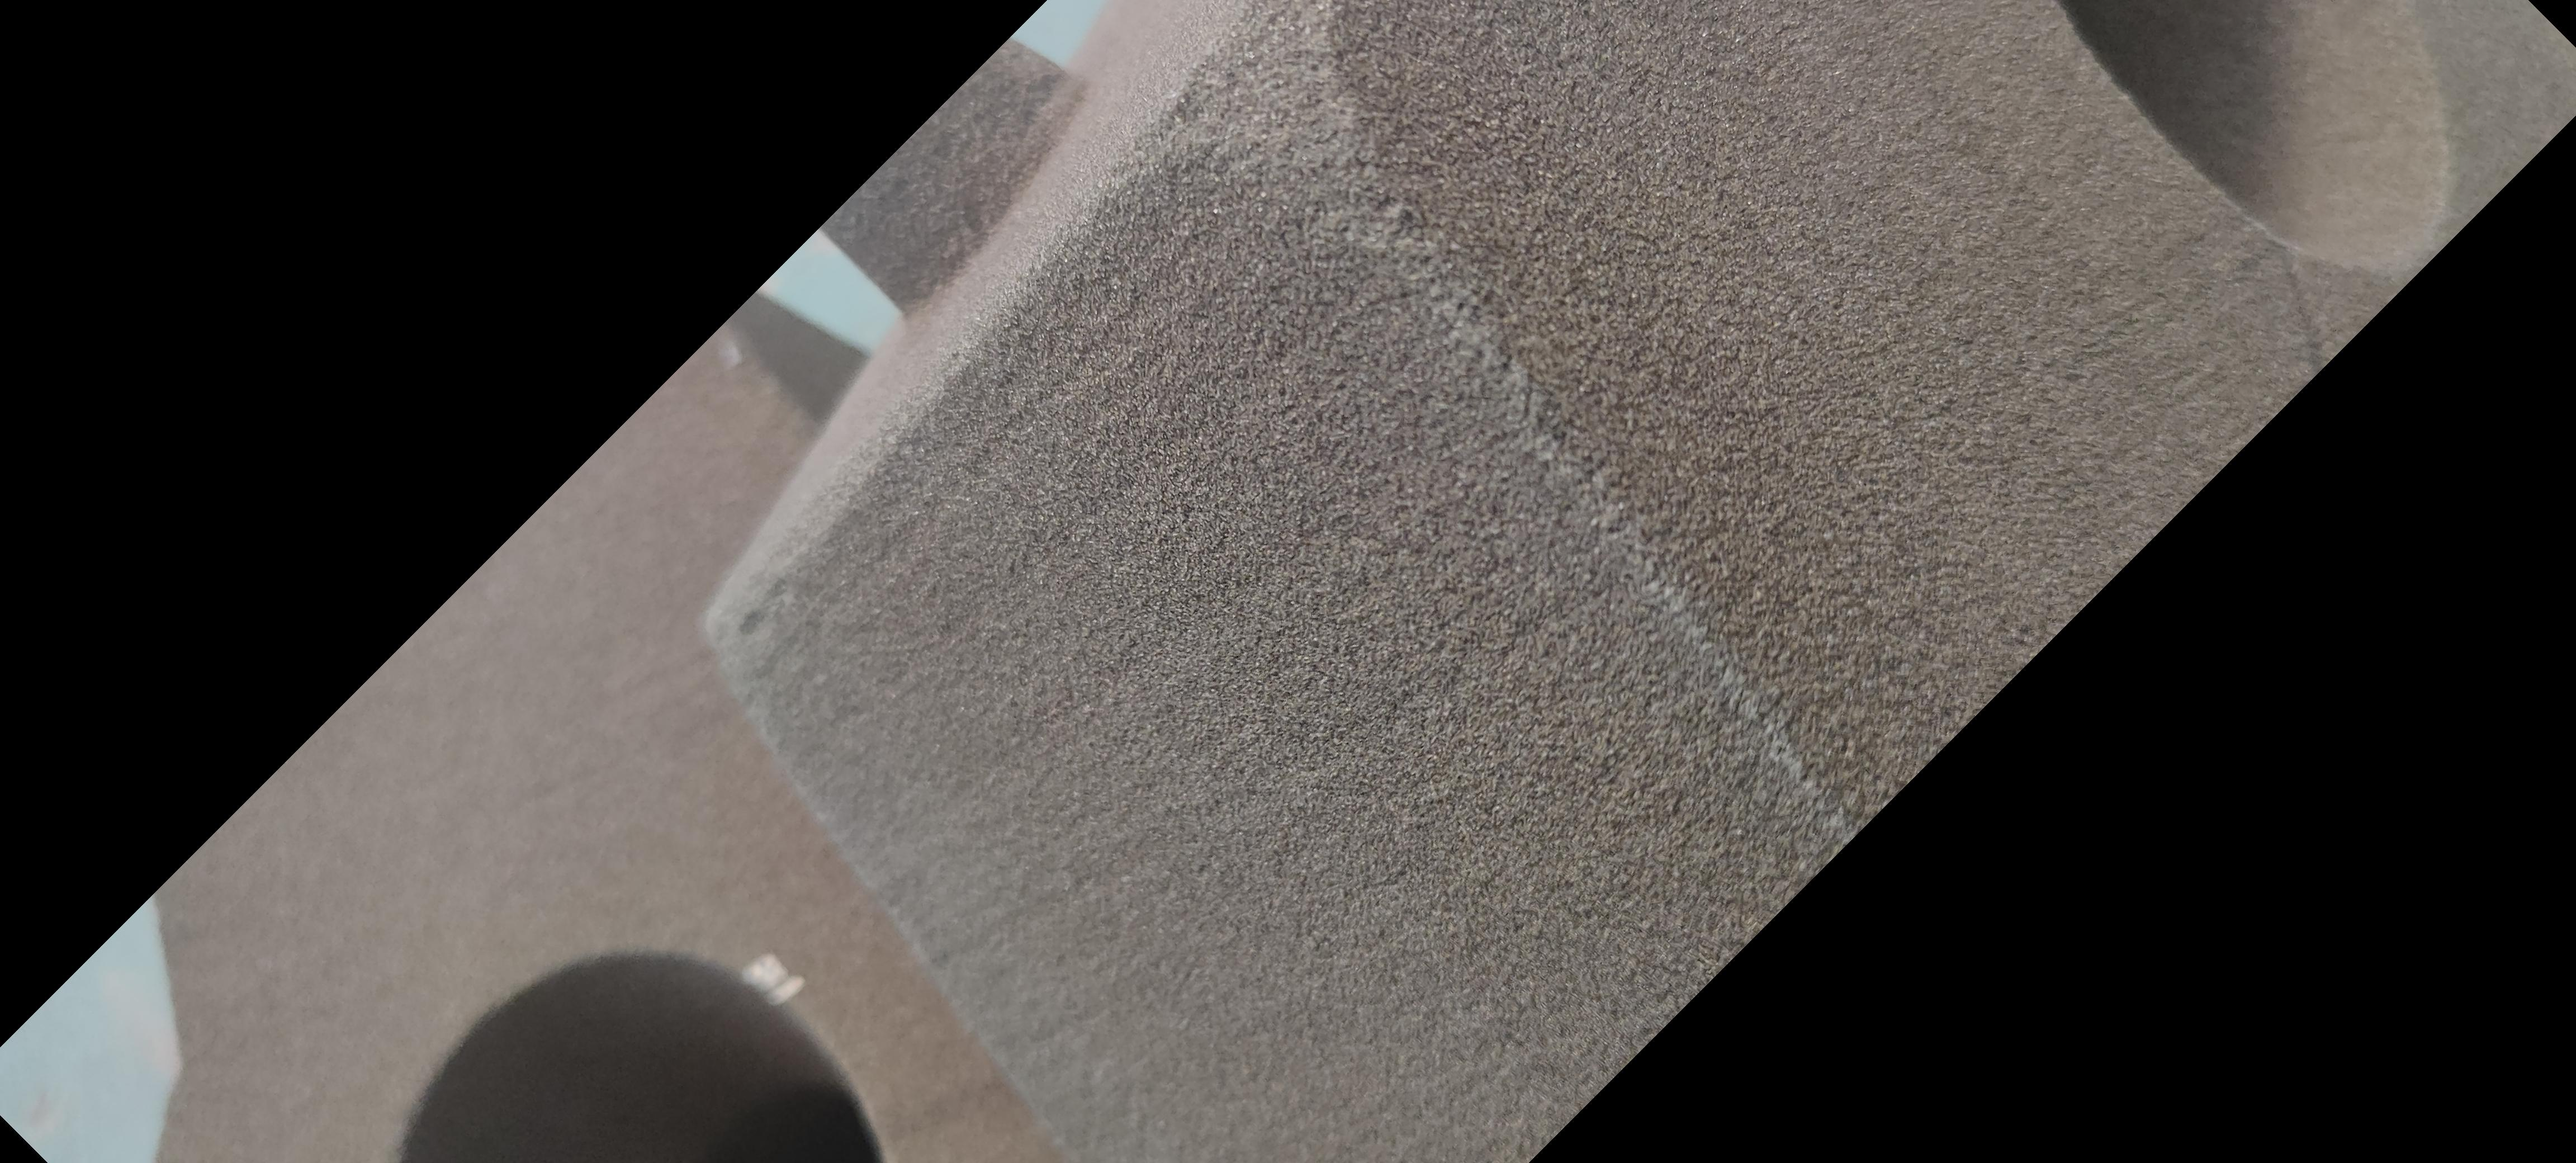pouring hole: (389, 951, 885, 1163), (2063, 0, 2453, 269)
